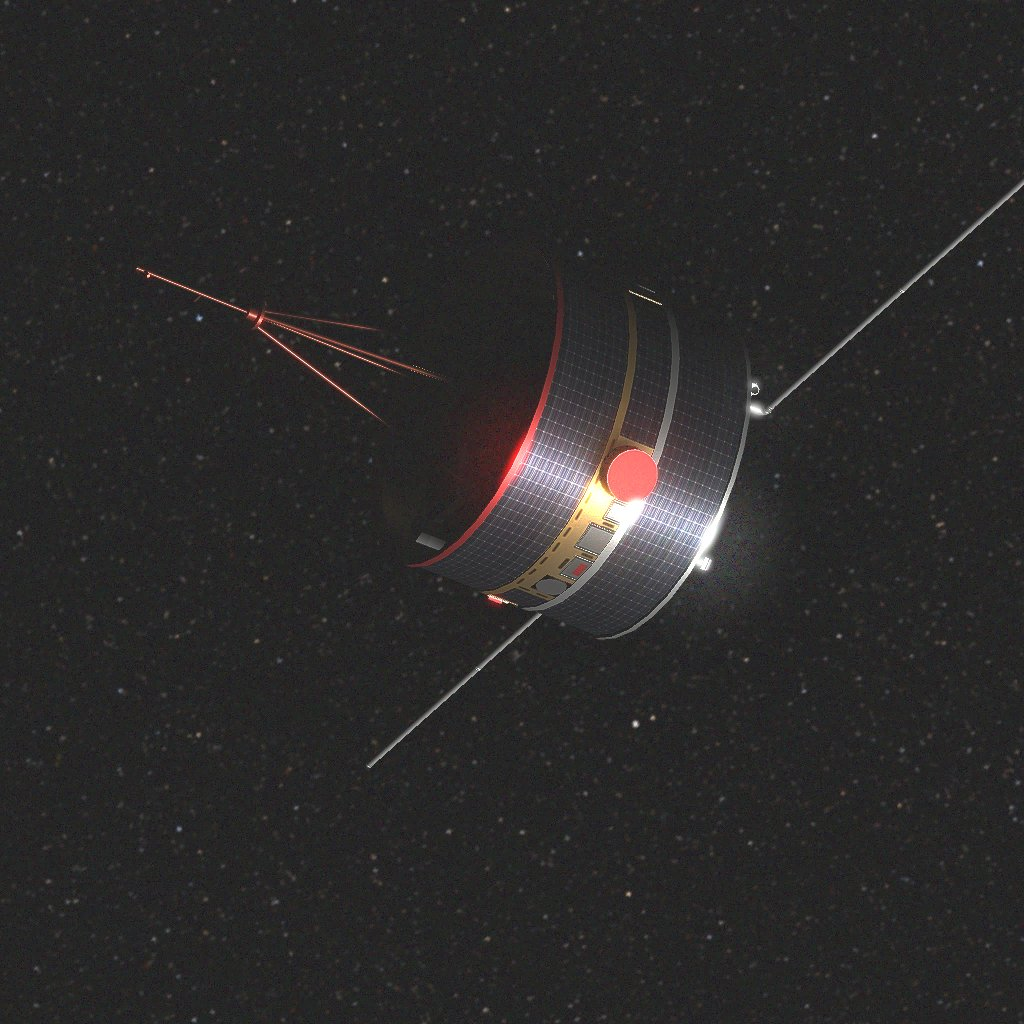double_star: (171, 168, 1000, 771)
